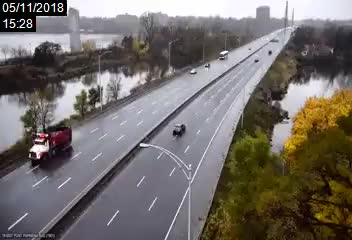personal_car: (170, 123, 188, 137), (188, 68, 197, 75), (203, 63, 210, 69)
truck: (29, 125, 72, 168)
